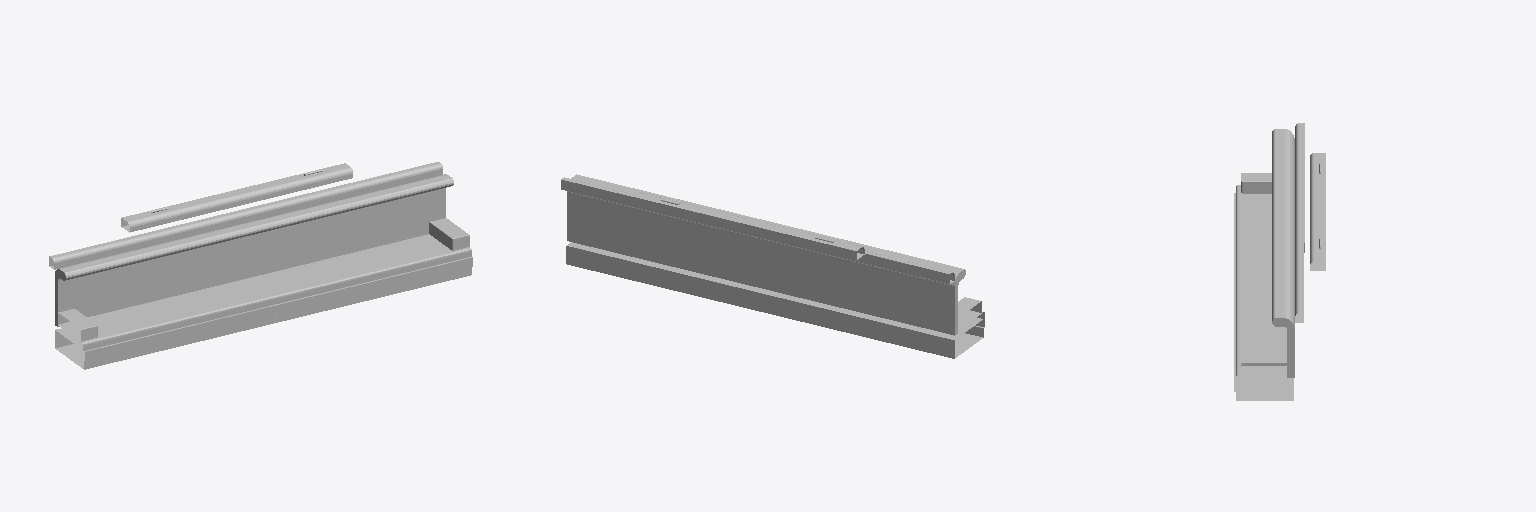
File: Piano_part_1.obj
The picture shows the model from 3 angles: view 1: azimuth 30°, elevation 25°; view 2: azimuth 150°, elevation 25°; view 3: azimuth 270°, elevation 25°; orthographic projection.
Visible parts, largest first — view 1: default; view 2: default; view 3: default.
Part boxes in pixels (left/top/right/bottom): default: left=49, top=162, right=472, bottom=369; default: left=561, top=174, right=984, bottom=358; default: left=1234, top=123, right=1325, bottom=400.
Bounding box in the file's own units: 80.42 × 19.93 × 16.42.